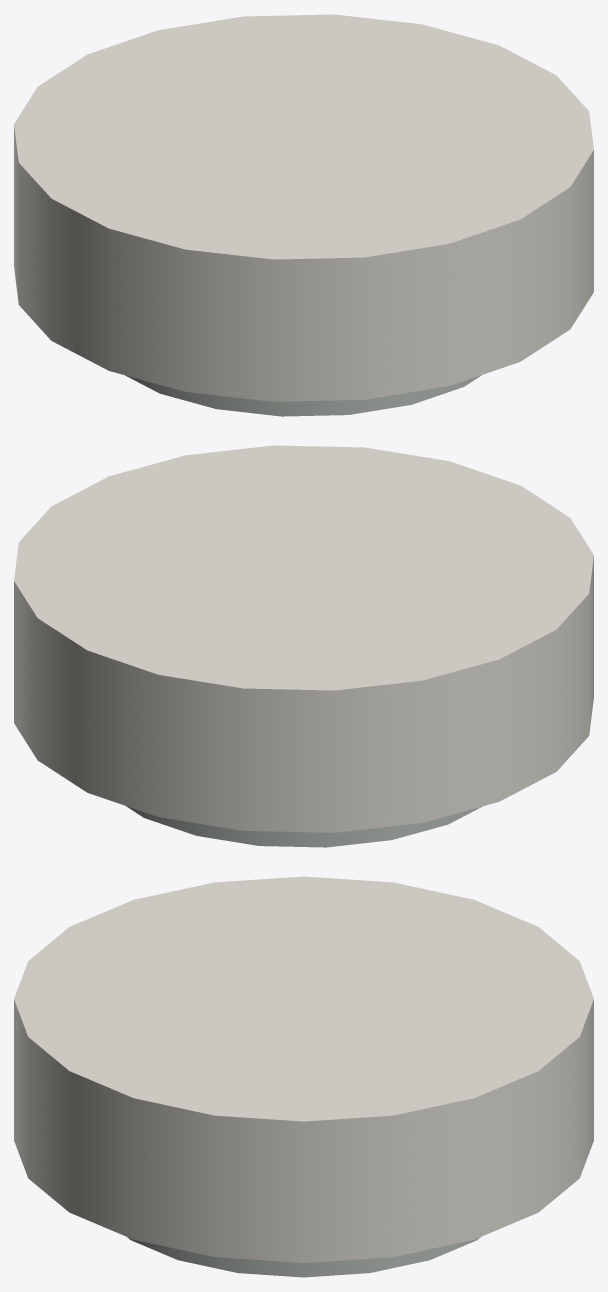
The model's file is smoke-detector.glb.
The picture shows the model from 3 angles, top to bottom: view 1: azimuth 30°, elevation 25°; view 2: azimuth 150°, elevation 25°; view 3: azimuth 270°, elevation 25°; orthographic projection.
Visible parts, largest first — view 1: smoke-detector; view 2: smoke-detector; view 3: smoke-detector.
Part boxes in pixels (x1=…): smoke-detector: x1=14, y1=14, x2=593, y2=416; smoke-detector: x1=14, y1=445, x2=593, y2=847; smoke-detector: x1=14, y1=876, x2=593, y2=1277.
Bounding box in the file's own units: 0.13 × 0.0465 × 0.13.
Materials: 2 (2 with a texture image).
